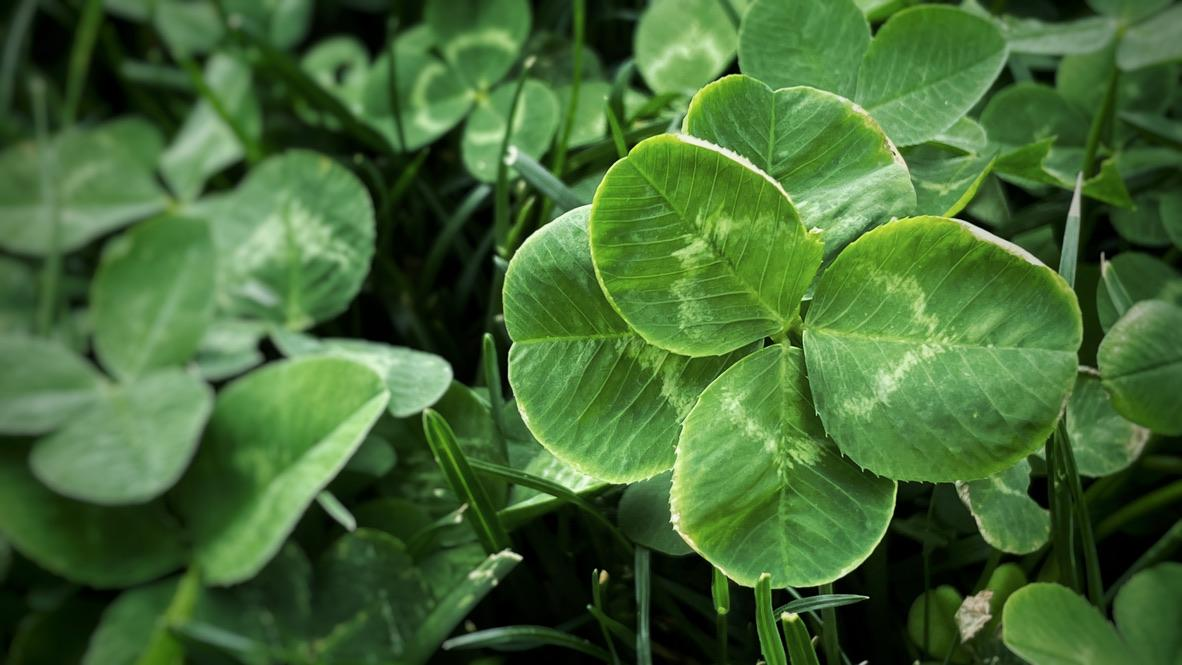5-Leaf-Clovers: (158, 57, 1038, 382)
